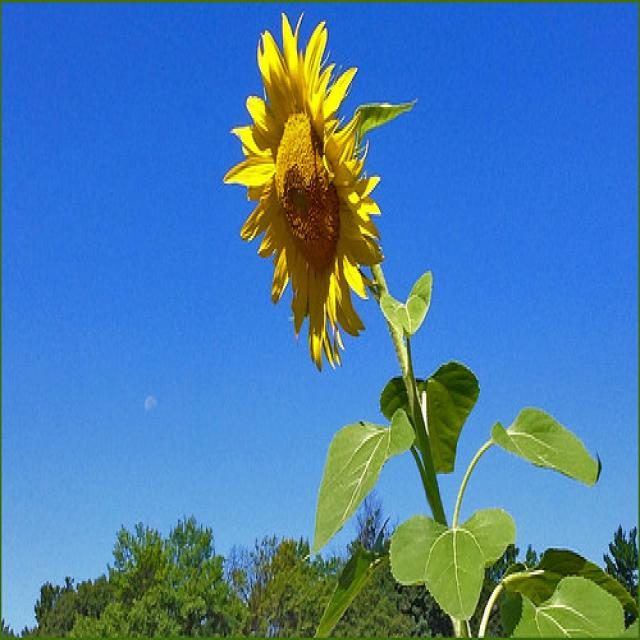sunflower: (218, 4, 390, 372)
